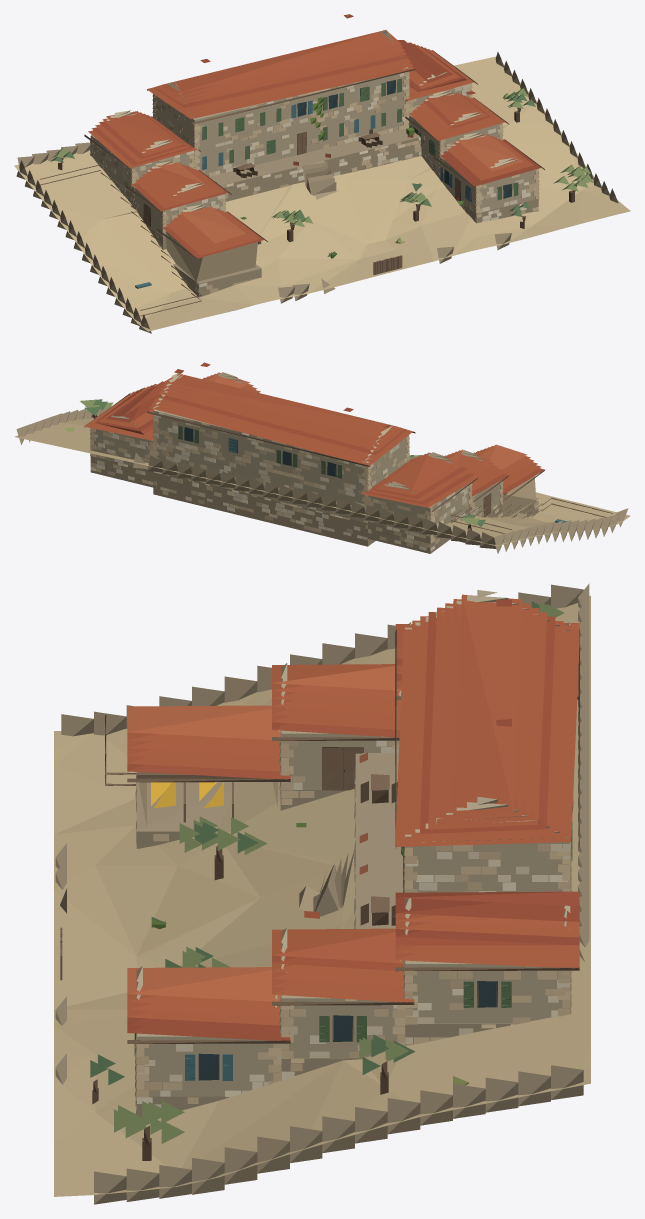
File: kucukcetmi-surek-kulubu-hafif.glb
The picture shows the model from 3 angles, top to bottom: view 1: azimuth 30°, elevation 25°; view 2: azimuth 150°, elevation 25°; view 3: azimuth 270°, elevation 25°; orthographic projection. The views are drawn at different scales.
Parts seen in each view (by area): view 1: toprak, kiremit1, harc, tas_koyu, tas2, kiremit2, ahsap, kiremit3, tas3, kiremit4, tas1, yesil_kepenk (+6 smaller); view 2: kiremit1, tas_koyu, harc, toprak, tas2, tas3, kiremit2, tas1, tas4, ahsap, kiremit4, kiremit3 (+4 smaller); view 3: toprak, kiremit1, tas_koyu, harc, kiremit3, kiremit4, kiremit2, ahsap, tas2, tas3, zeytin_yaprak, tas4 (+6 smaller).
Boxes of the visible parts, bbox=[...] form: toprak: bbox=[14, 56, 630, 331]; kiremit1: bbox=[88, 30, 533, 255]; harc: bbox=[91, 29, 535, 234]; tas_koyu: bbox=[16, 52, 618, 333]; tas2: bbox=[90, 73, 539, 289]; kiremit2: bbox=[91, 55, 490, 258]; ahsap: bbox=[39, 50, 544, 316]; kiremit3: bbox=[155, 134, 523, 243]; tas3: bbox=[90, 71, 539, 292]; kiremit4: bbox=[200, 14, 541, 186]; tas1: bbox=[92, 73, 523, 292]; yesil_kepenk: bbox=[202, 78, 518, 200]; kiremit1: bbox=[85, 373, 541, 507]; tas_koyu: bbox=[16, 408, 628, 553]; harc: bbox=[94, 372, 501, 535]; toprak: bbox=[14, 417, 630, 546]; tas2: bbox=[90, 416, 538, 547]; tas3: bbox=[90, 415, 503, 547]; kiremit2: bbox=[155, 394, 544, 504]; tas1: bbox=[90, 411, 538, 544]; tas4: bbox=[90, 412, 517, 551]; ahsap: bbox=[84, 393, 612, 533]; kiremit4: bbox=[95, 362, 353, 434]; kiremit3: bbox=[207, 372, 527, 470]; toprak: bbox=[54, 595, 590, 1196]; kiremit1: bbox=[127, 594, 580, 1025]; tas_koyu: bbox=[55, 583, 589, 1204]; harc: bbox=[136, 590, 570, 1096]; kiremit3: bbox=[127, 666, 401, 1001]; kiremit4: bbox=[127, 599, 579, 1041]; kiremit2: bbox=[127, 612, 578, 971]; ahsap: bbox=[60, 629, 579, 1043]; tas2: bbox=[135, 740, 571, 1114]; tas3: bbox=[135, 736, 571, 1106]; zeytin_yaprak: bbox=[114, 601, 564, 1143]; tas4: bbox=[135, 731, 571, 1107].
Size of the model in its own units: 54 by 17.43 by 26.
